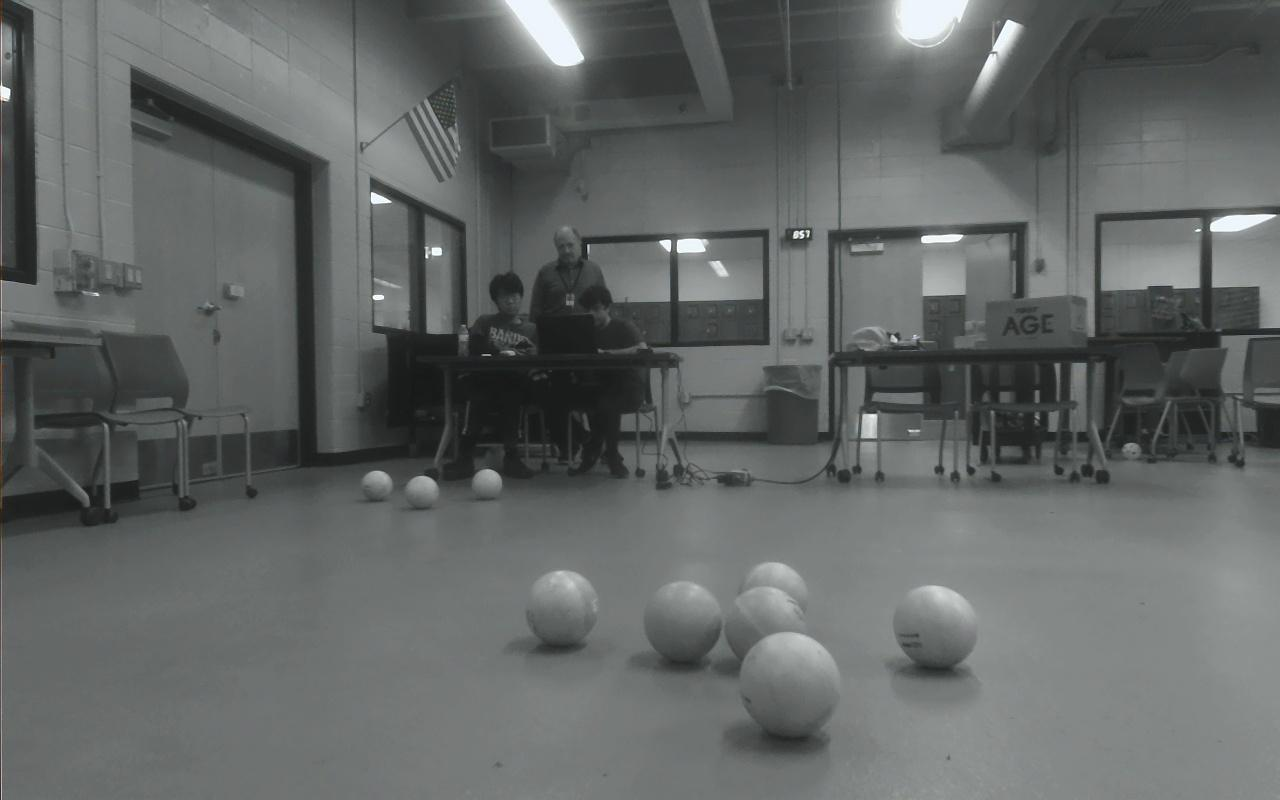Fuel: (739, 630, 841, 739), (892, 584, 979, 671), (724, 585, 809, 666), (643, 580, 723, 663), (525, 570, 600, 649), (737, 562, 810, 624), (404, 474, 440, 510), (471, 468, 504, 501), (360, 470, 394, 502)
